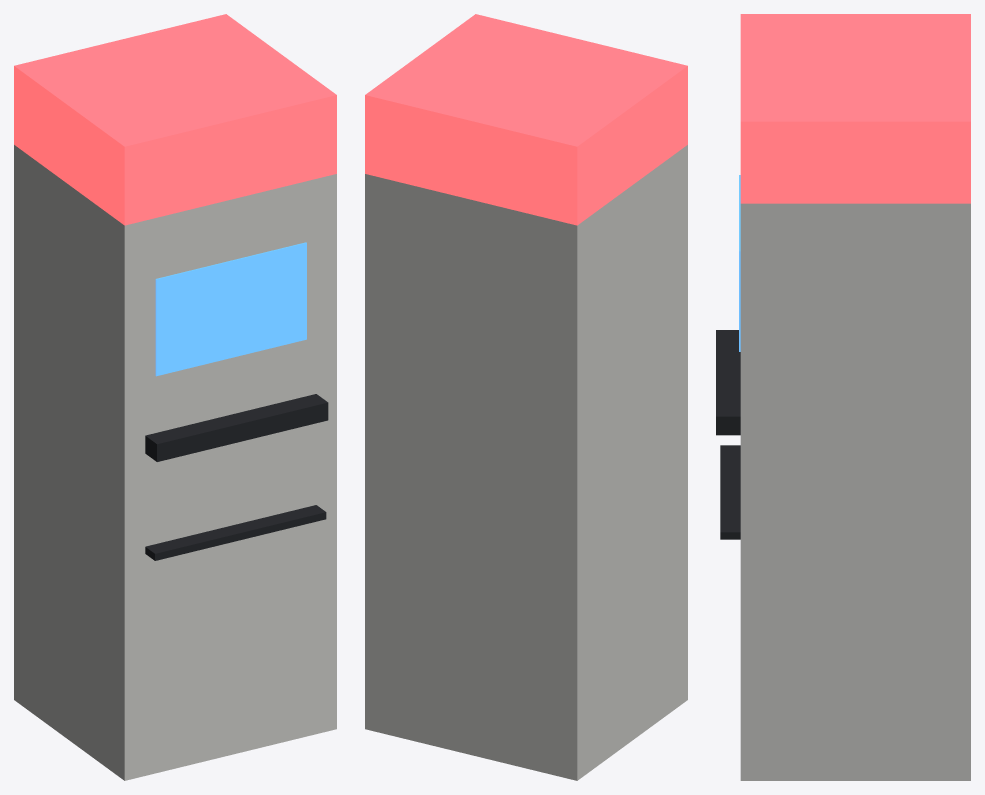
Rendered from atm.glb.
3 views of the same model, side by side, from view 1: azimuth 30°, elevation 25°; view 2: azimuth 150°, elevation 25°; view 3: azimuth 270°, elevation 25° (orthographic). The views are drawn at different scales.
Parts seen in each view (by area): view 1: atm, screen_idle; view 2: atm; view 3: atm.
Boxes of the visible parts, box(x1,y1,x2,y2) form: atm: box(14, 14, 336, 780); screen_idle: box(155, 242, 306, 376); atm: box(365, 14, 687, 780); atm: box(716, 14, 970, 780).
Size of the model in its own units: 0.62 by 1.77 by 0.62.
